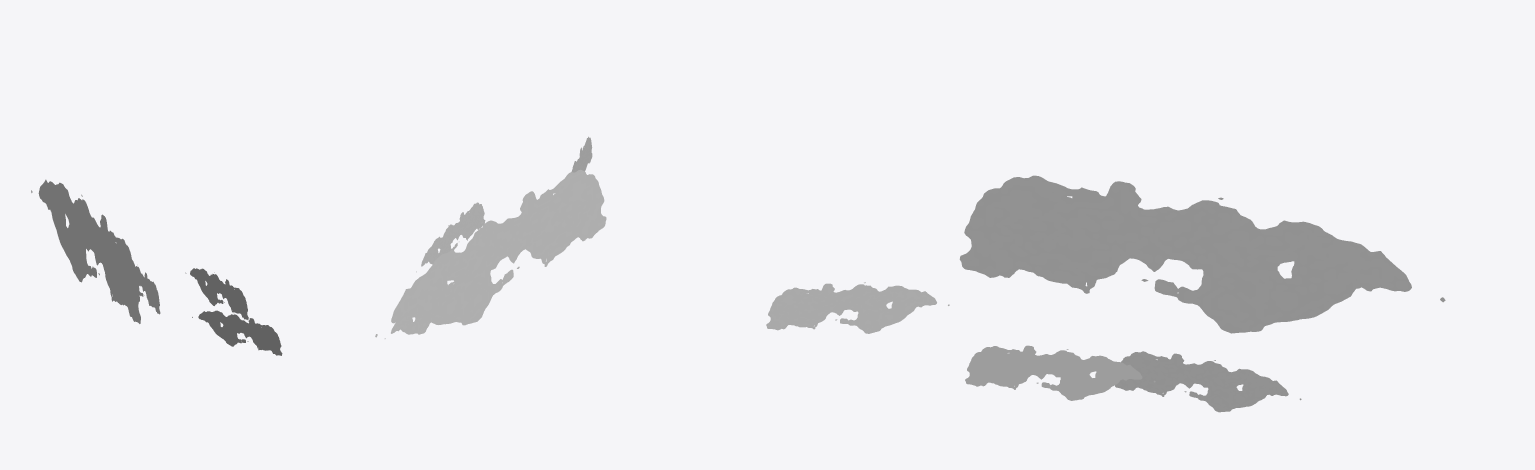
The model's file is Fog.fbx.
The picture shows the model from 3 angles, left to right: view 1: azimuth 30°, elevation 25°; view 2: azimuth 150°, elevation 25°; view 3: azimuth 270°, elevation 25°; orthographic projection. The views are drawn at different scales.
Visible parts, largest first — view 1: Fog; view 2: Fog; view 3: Fog.
Boxes of the visible parts, x1,y1,x2,y2 form: Fog: (31, 179, 282, 355); Fog: (375, 136, 606, 338); Fog: (766, 175, 1445, 412).
Bounding box in the file's own units: 2.72 × 5.18 × 10.12.
Materials: 1 (1 with a texture image).
